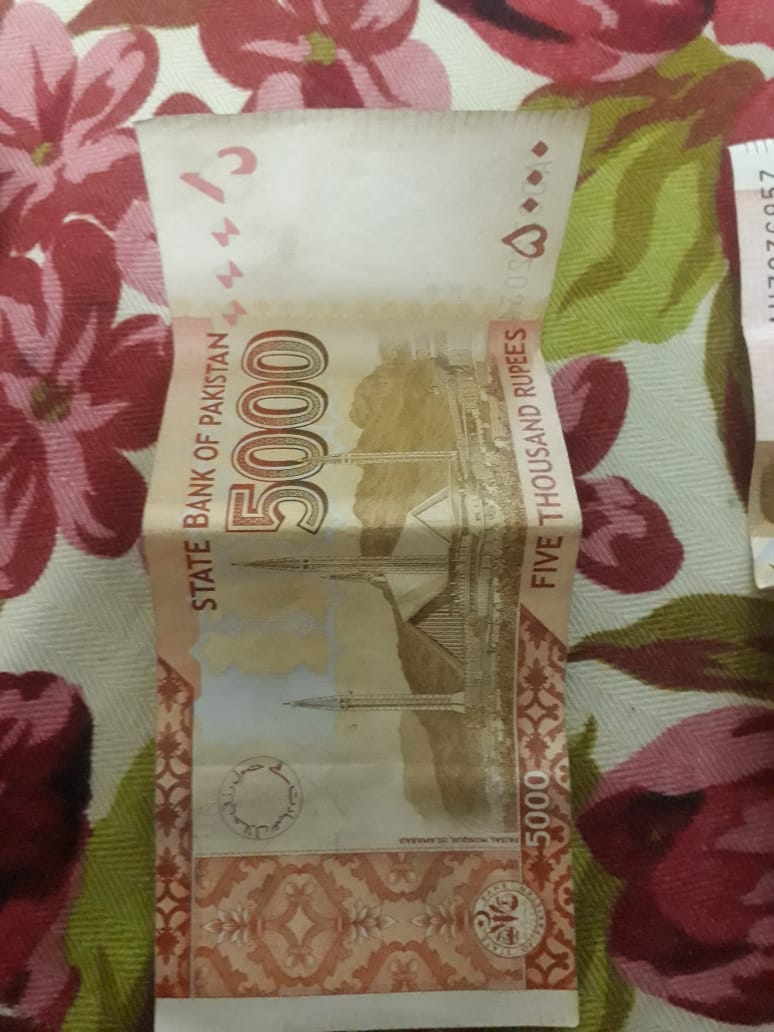5000 rupee: (82, 66, 631, 1032)
